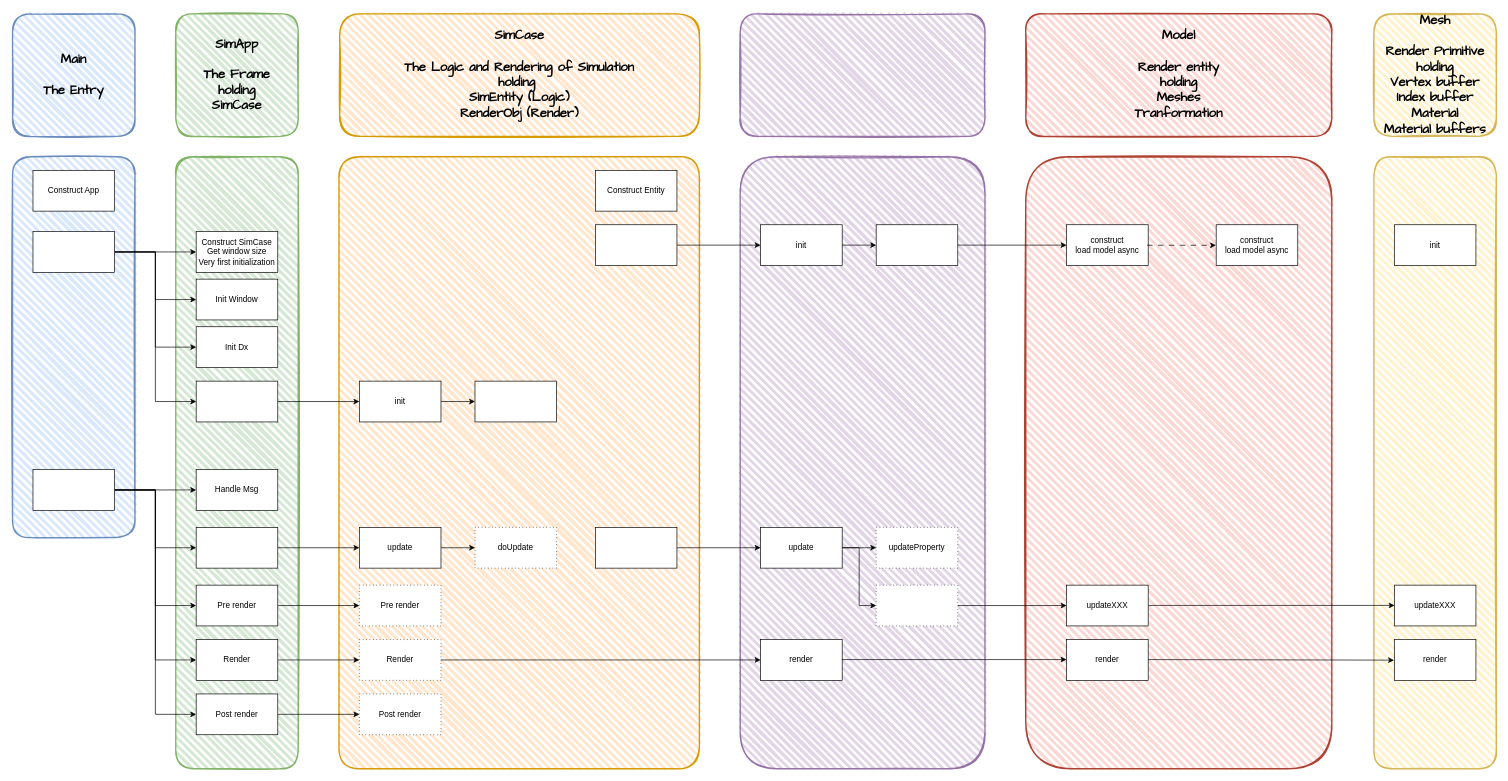
Image size: 1508x781. Some labels were removed from this diagram. The box of each missing label's shape, as (x1, y1, x2, y2) in pixels:
Add Entity: (595, 224, 677, 266)
Entity Sim primitive holding Sim property Model: (739, 13, 985, 137)
Init App: (32, 231, 115, 272)
Init SimCase: (196, 380, 278, 422)
initModel: (876, 224, 958, 266)
initUI: (474, 380, 557, 422)
Run App: (32, 469, 115, 510)
Update: Logic and Data: (196, 527, 278, 568)
updateEntities: (595, 527, 677, 568)
updateModel: (876, 584, 958, 626)
